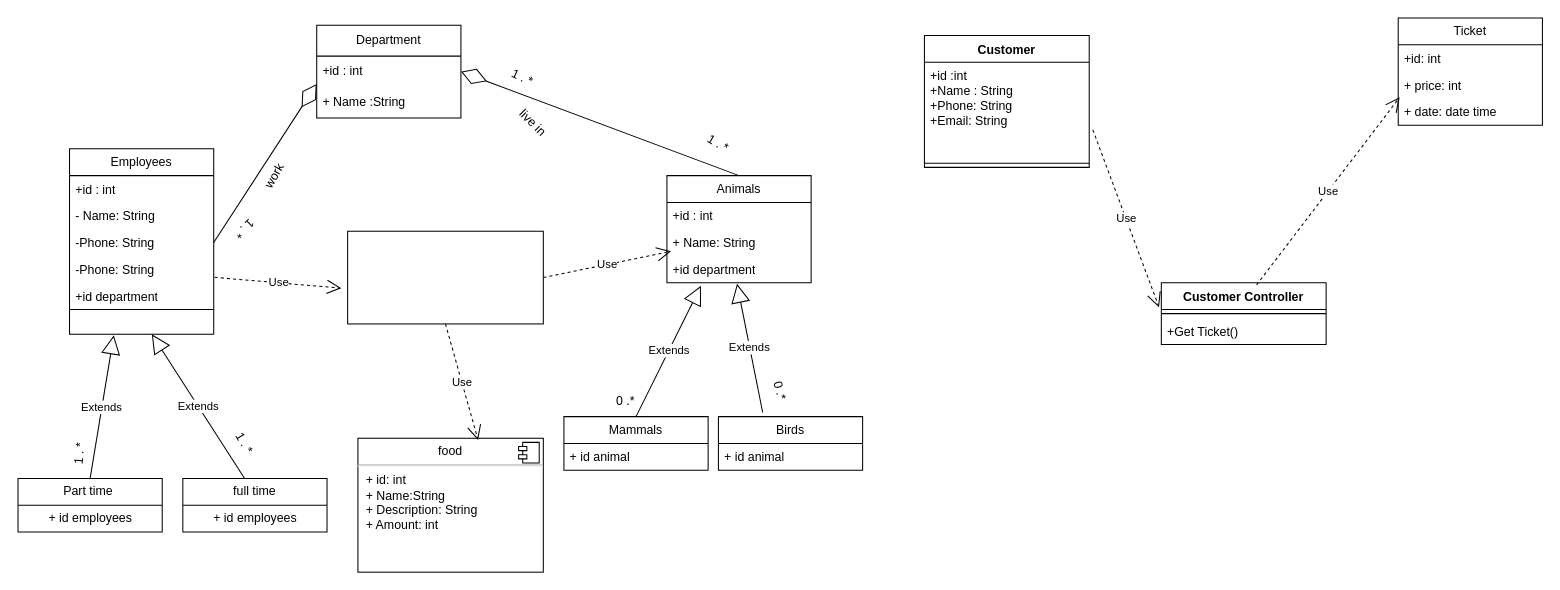
Image size: 1560x590. Some labels were removed from this diagram. Here are the shapes that lost their labels. From the top down, the centre of each, then its label:
[445,277]: Employee Controller +make a food list() +animal health report()
[141,321]: +Login()
